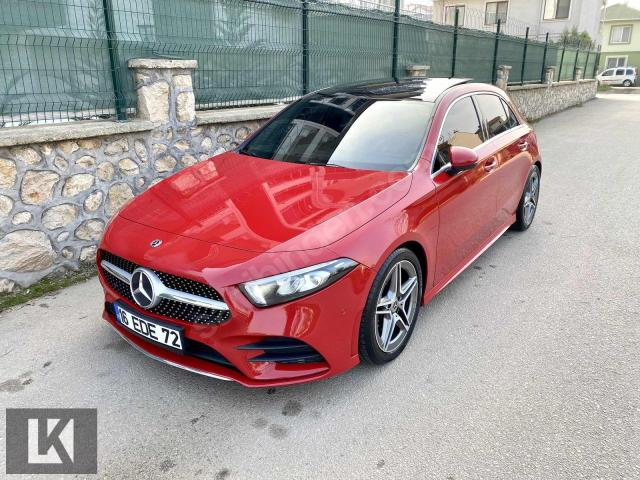plaka: (114, 302, 184, 353)
